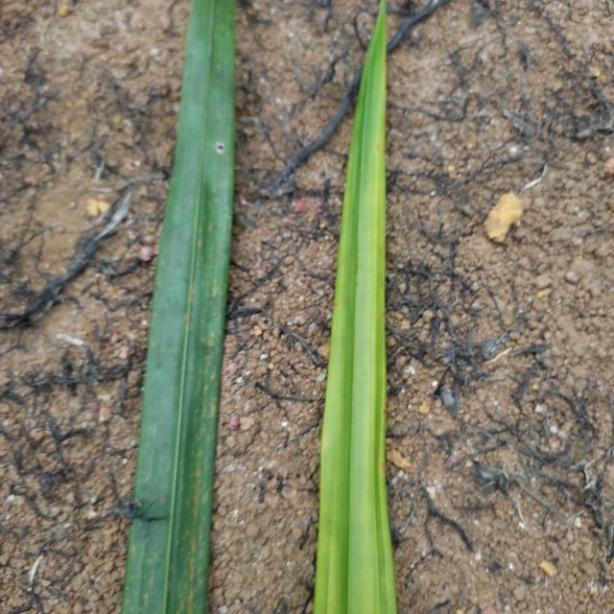nitrogen: (126, 0, 240, 614), (313, 5, 395, 614)
